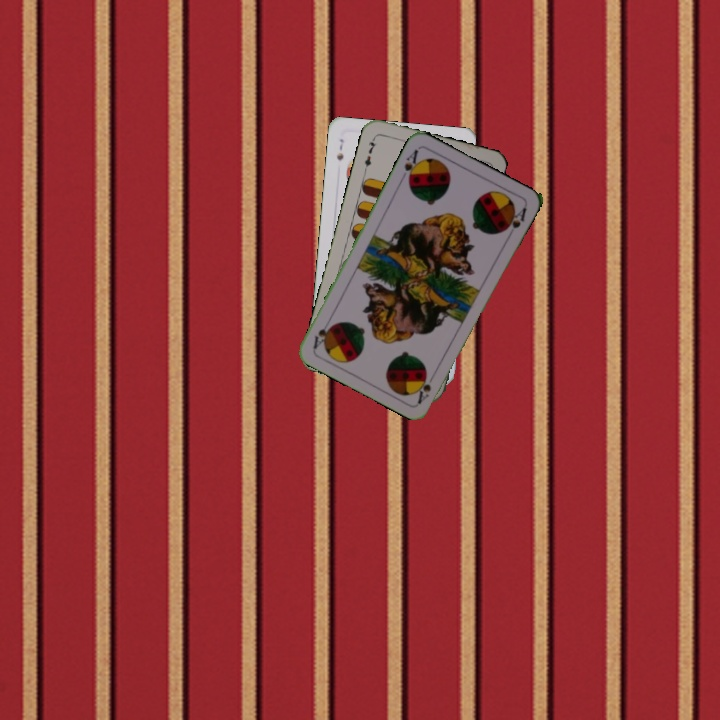E7: (360, 133, 379, 173)
S7: (333, 135, 346, 163)
SA: (397, 145, 423, 186), (413, 373, 434, 406)
